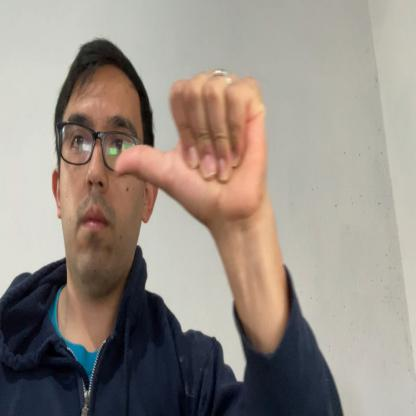A: (113, 67, 268, 225)
